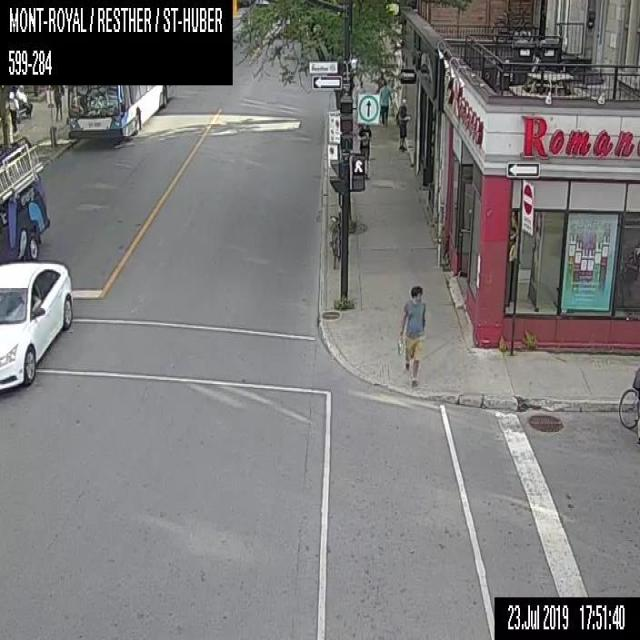bus: (64, 82, 168, 139)
pedestrian: (398, 286, 426, 382), (356, 123, 371, 178), (395, 98, 410, 150), (378, 81, 392, 125), (16, 84, 32, 116), (53, 82, 64, 120), (8, 90, 18, 131)
vehicle: (0, 262, 73, 390), (0, 135, 49, 262)
